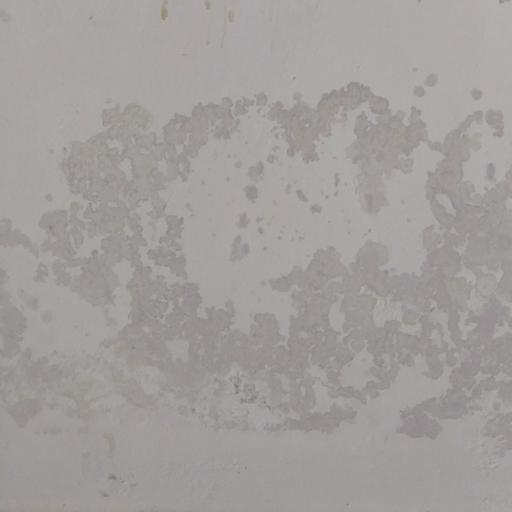peeling: (0, 61, 512, 451)
